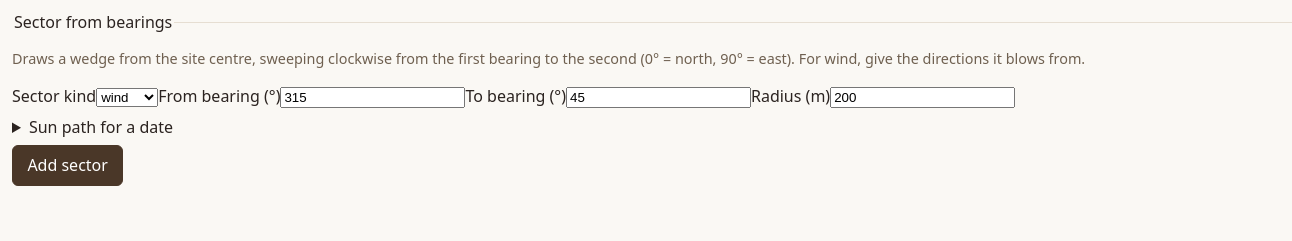
Test case: SectorHelper › refuses equal bearings
Step 1. Replace the text in the number field labelled "From bearing (°)" with "90" → (373, 98), box [280, 87, 465, 108]
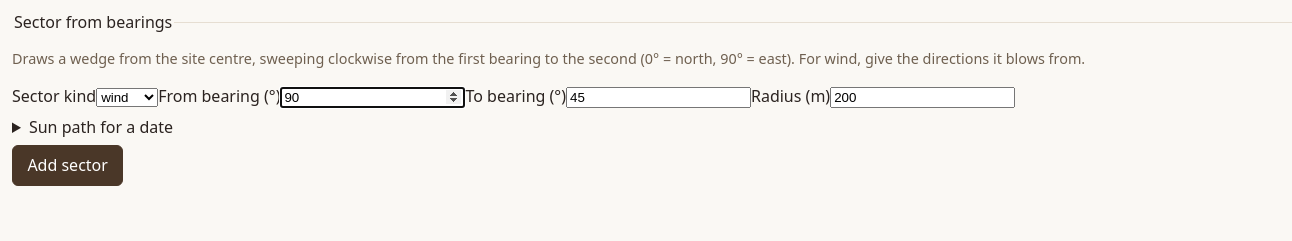
Step 2. Replace the text in the number field labelled "To bearing (°)" with "90" → (658, 98), box [566, 87, 751, 108]
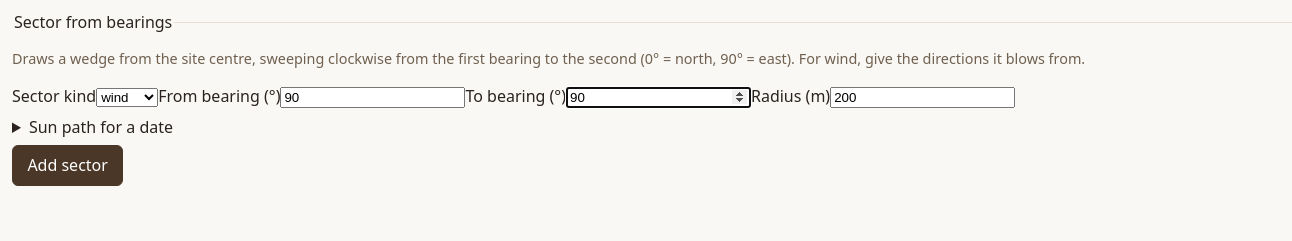
Step 3. Click the button "Add sector" → (68, 165), box [12, 145, 123, 186]
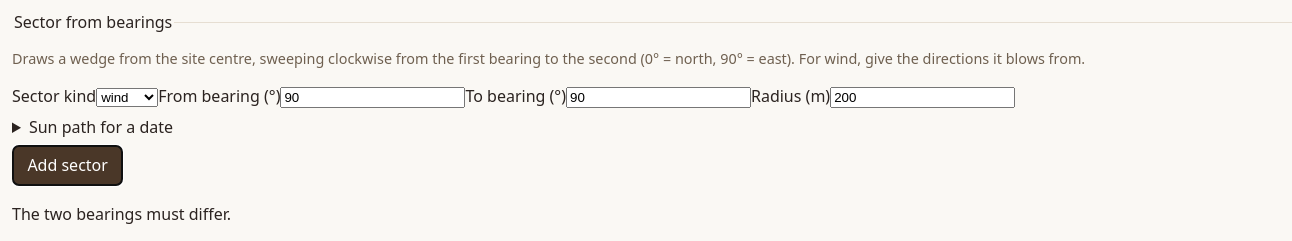
expect the message shows "must differ": met, box [12, 202, 231, 224]
